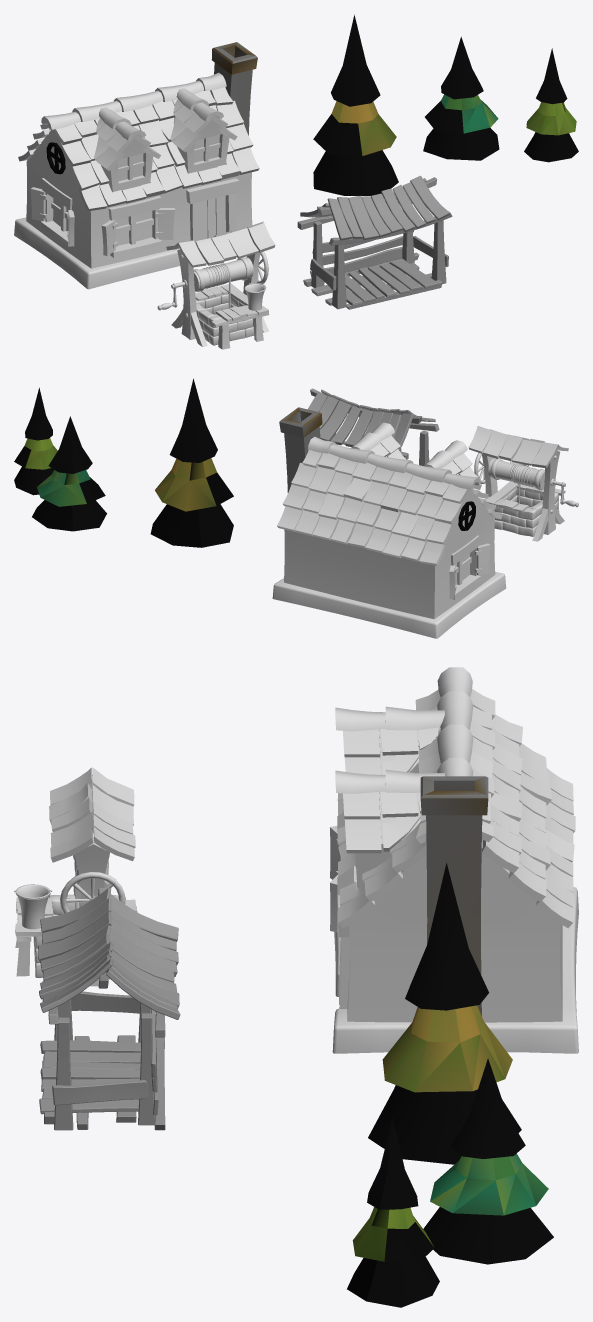
Rendered from houses_style_02.fbx.
3 renders of one model, top to bottom at view 1: azimuth 30°, elevation 25°; view 2: azimuth 150°, elevation 25°; view 3: azimuth 270°, elevation 25°, orthographic. The views are drawn at different scales.
Parts seen in each view (by area): view 1: LivingHouse, Box138, Well3, Fir_03, Fir_02, Fir_01; view 2: LivingHouse, Well3, Fir_03, Fir_02, Box138, Fir_01; view 3: LivingHouse, Box138, Fir_03, Fir_02, Well3, Fir_01.
Boxes of the visible parts, bbox=[...] form: LivingHouse: bbox=[14, 42, 259, 289]; Box138: bbox=[297, 175, 452, 309]; Well3: bbox=[157, 221, 275, 349]; Fir_03: bbox=[313, 14, 398, 195]; Fir_02: bbox=[423, 36, 499, 160]; Fir_01: bbox=[524, 48, 578, 162]; LivingHouse: bbox=[272, 407, 506, 638]; Well3: bbox=[468, 426, 578, 541]; Fir_03: bbox=[150, 378, 233, 547]; Fir_02: bbox=[32, 416, 106, 531]; Box138: bbox=[307, 388, 439, 465]; Fir_01: bbox=[14, 387, 57, 495]; LivingHouse: bbox=[330, 667, 578, 1053]; Box138: bbox=[38, 888, 180, 1130]; Fir_03: bbox=[368, 863, 521, 1164]; Fir_02: bbox=[423, 1058, 553, 1264]; Well3: bbox=[14, 767, 137, 986]; Fir_01: bbox=[347, 1117, 439, 1307].
Size of the model in its own units: 1240 by 410 by 718.
